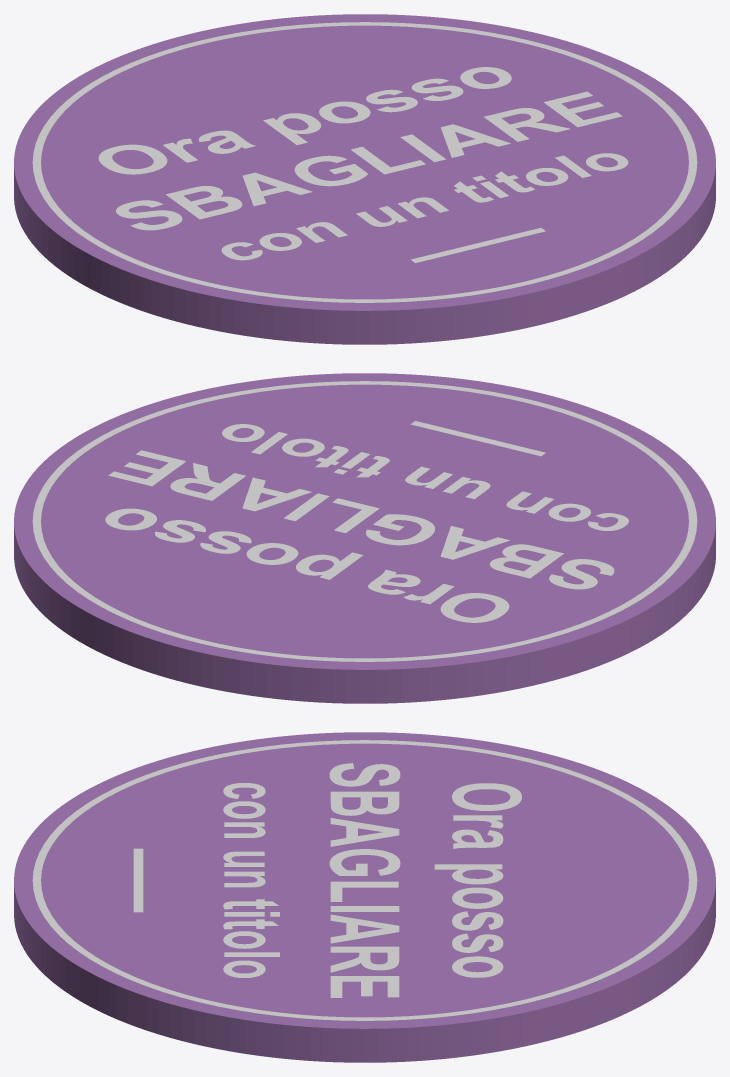
Rendered from sottobicchiere-sbagliare-con-titolo.glb.
3 views of the same model, one above another, from view 1: azimuth 30°, elevation 25°; view 2: azimuth 150°, elevation 25°; view 3: azimuth 270°, elevation 25° (orthographic).
Visible parts, largest first — view 1: coaster_base, coaster_ink; view 2: coaster_base, coaster_ink; view 3: coaster_base, coaster_ink.
Part boxes in pixels (<box>): coaster_base: <box>14,14,715,344</box>; coaster_ink: <box>32,22,697,302</box>; coaster_base: <box>14,373,715,703</box>; coaster_ink: <box>32,381,697,661</box>; coaster_base: <box>14,732,715,1062</box>; coaster_ink: <box>32,740,697,1020</box>.
Size of the model in its own units: 0.075 by 0.004 by 0.075.
